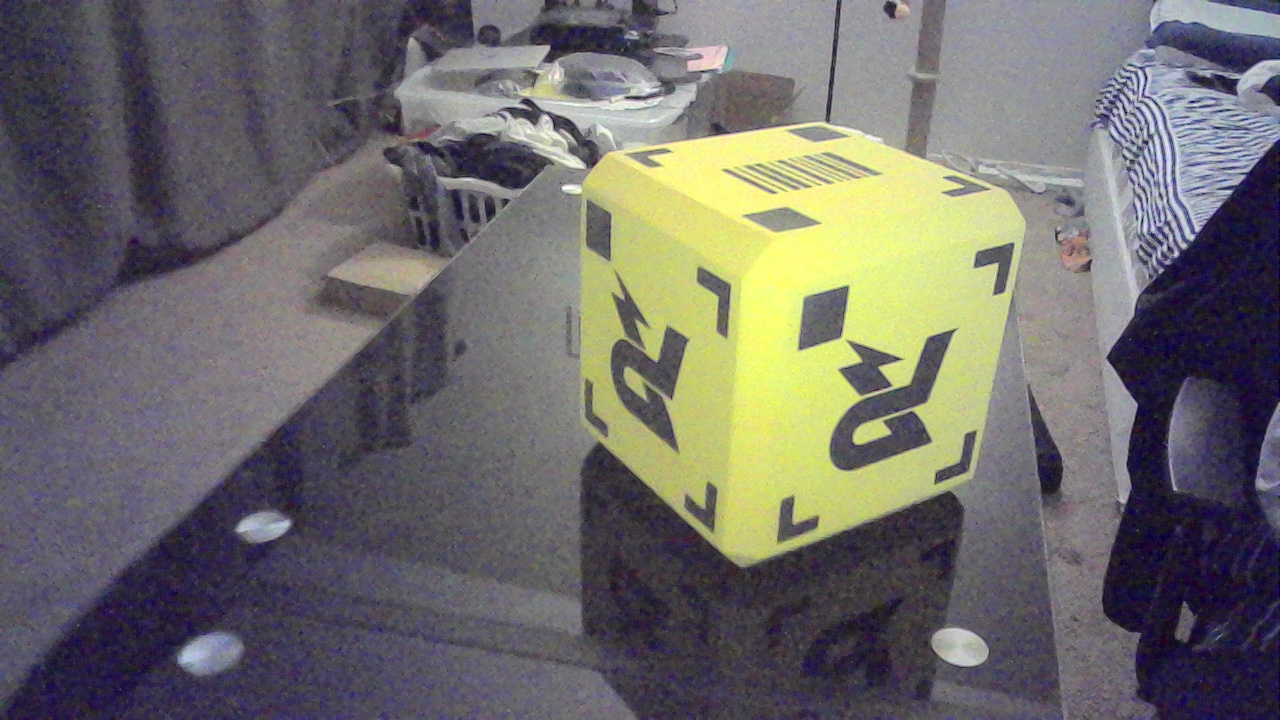Barcode: (718, 151, 891, 207)
R: (815, 326, 964, 473), (612, 280, 699, 460)
